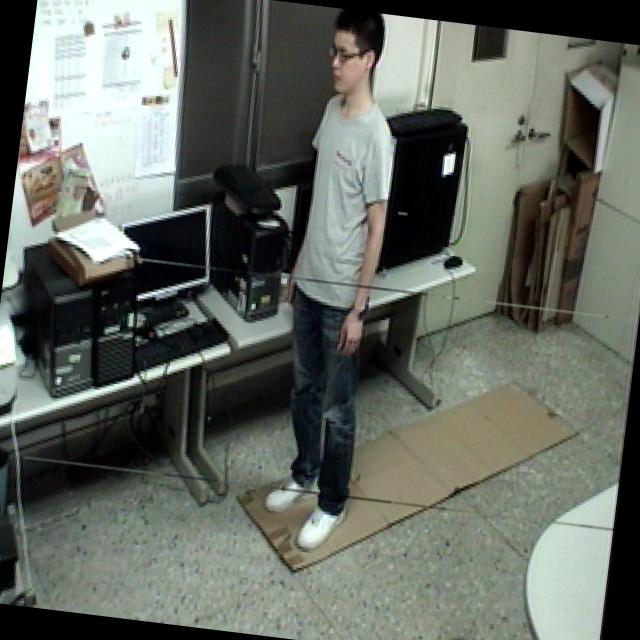stand: (227, 0, 426, 566)
